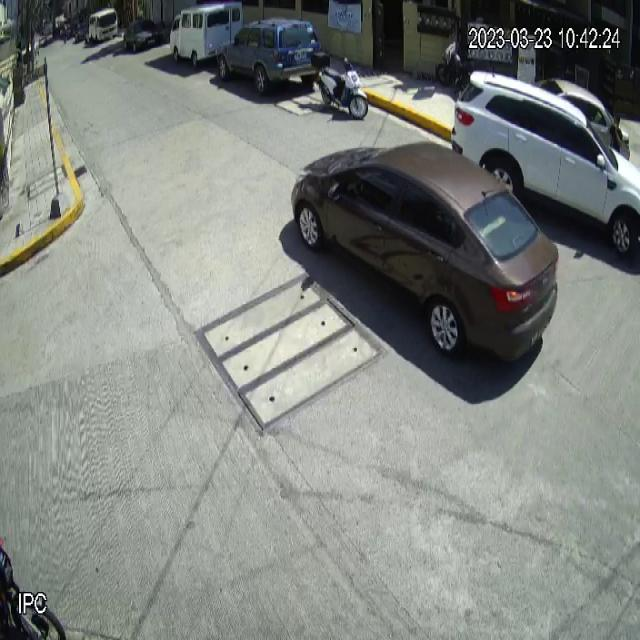Car: (290, 140, 559, 366), (453, 66, 640, 264), (233, 15, 321, 97)
Motorcycle: (312, 51, 368, 120)
Van: (169, 0, 243, 67)
